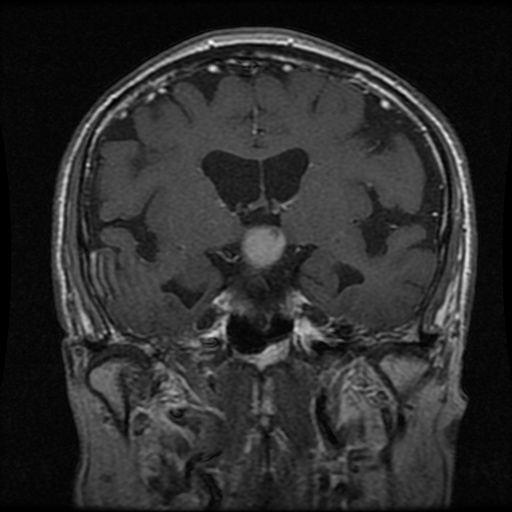pituitary: (238, 224, 286, 269)
